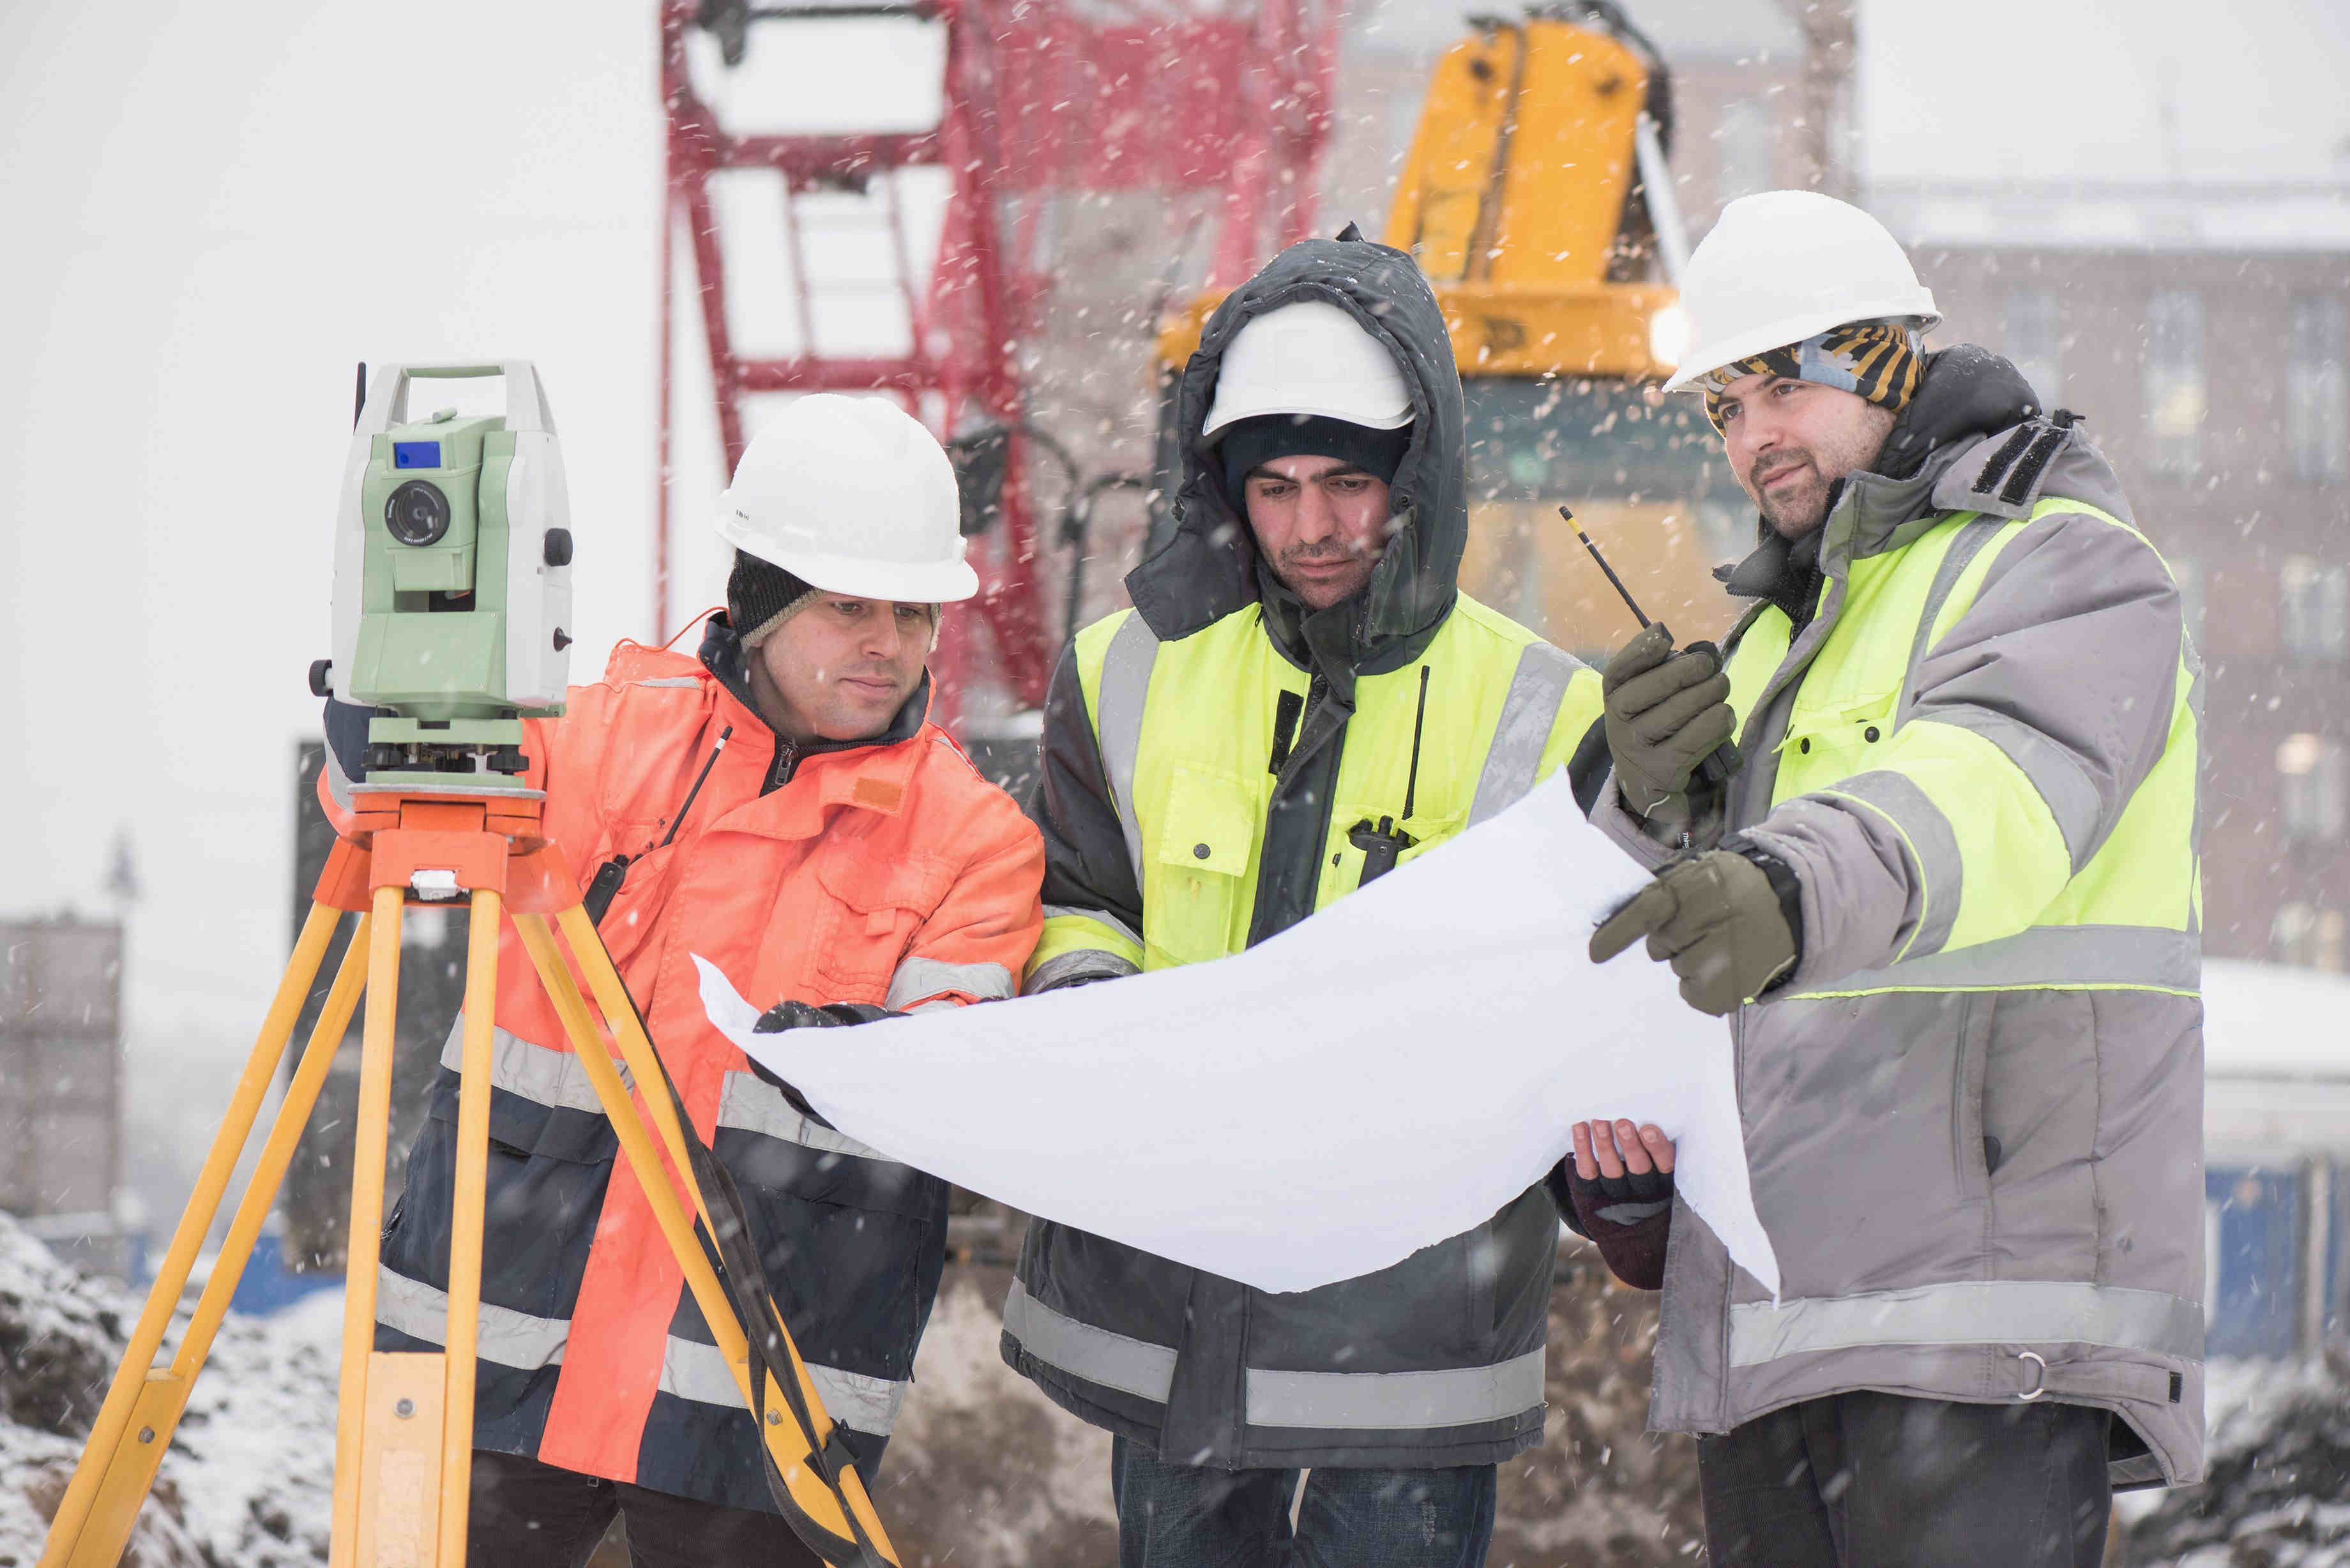jacket: (567, 638, 1020, 1568), (1040, 581, 1591, 1198), (1690, 546, 2280, 1032)
white_hat: (710, 405, 1003, 610), (1641, 187, 1932, 374), (1157, 284, 1441, 449)
